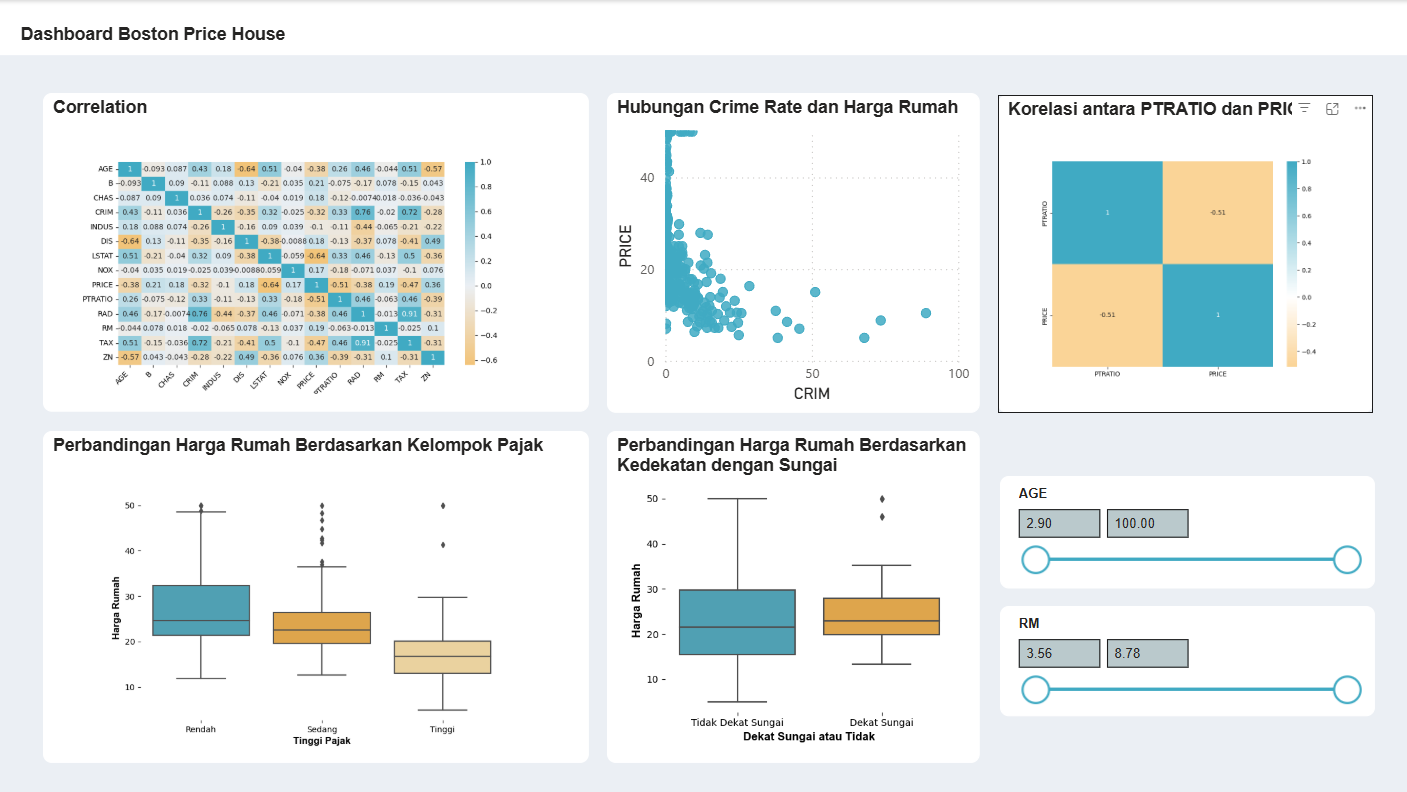

The page's visual inventory and layout, read from the dashboard file:
{"tool":"powerbi","page":{"name":"Page 1","canvas":[1280,720],"ordinal":0},"visuals":[{"type":"scatterChart","title":"Hubungan Crime Rate dan Harga Rumah","fields":{"Y":["Sheet1.PRICE"],"X":["Sheet1.CRIM"]},"box":[551.5,84.6,337.5,289.8],"z":0},{"type":"pythonVisual","title":"Correlation","fields":{"Values":["data.AGE","data.B","data.CHAS","data.CRIM","data.INDUS","data.DIS","data.LSTAT","data.NOX","data.PRICE","data.PTRATIO","data.RAD","data.RM"]},"box":[40.3,84.3,494.7,289.5],"z":1000},{"type":"pythonVisual","title":"Korelasi antara PTRATIO dan PRICE","fields":{"Values":["Sheet1.PTRATIO","Sheet1.PRICE"]},"box":[905.5,86.6,340.4,287.9],"z":2000},{"type":"pythonVisual","title":"Perbandingan Harga Rumah Berdasarkan Kedekatan dengan Sungai","fields":{"Values":["Sheet1.CHAS","Sheet1.PRICE"]},"box":[551.5,391,337.5,300.5],"z":3000},{"type":"pythonVisual","title":"Perbandingan Harga Rumah Berdasarkan Kelompok Pajak","fields":{"Values":["Sheet1.TAX","Sheet1.PRICE"]},"box":[39.9,391,495.1,300.5],"z":4000},{"type":"textbox","box":[0,0,1280,49.6],"z":5000},{"type":"slicer","fields":{"Values":["Sheet1.AGE"]},"box":[907.7,431.6,340.1,101.6],"z":5001},{"type":"slicer","fields":{"Values":["Sheet1.RM"]},"box":[907.7,549.5,340.1,99.7],"z":5002}]}

Visuals, with their boxes in screenshot pixels (x1, y1, x2, y2), scaled from the page's 1280x720 canvas onto the 1407x792 screenshot:
"Hubungan Crime Rate dan Harga Rumah" scatterChart: box=[606, 93, 977, 412]
"Correlation" pythonVisual: box=[44, 93, 588, 411]
"Korelasi antara PTRATIO dan PRICE" pythonVisual: box=[995, 95, 1370, 412]
"Perbandingan Harga Rumah Berdasarkan Kedekatan dengan Sungai" pythonVisual: box=[606, 430, 977, 761]
"Perbandingan Harga Rumah Berdasarkan Kelompok Pajak" pythonVisual: box=[44, 430, 588, 761]
textbox: box=[0, 0, 1406, 55]
slicer - Sheet1.AGE: box=[998, 475, 1372, 587]
slicer - Sheet1.RM: box=[998, 604, 1372, 714]
